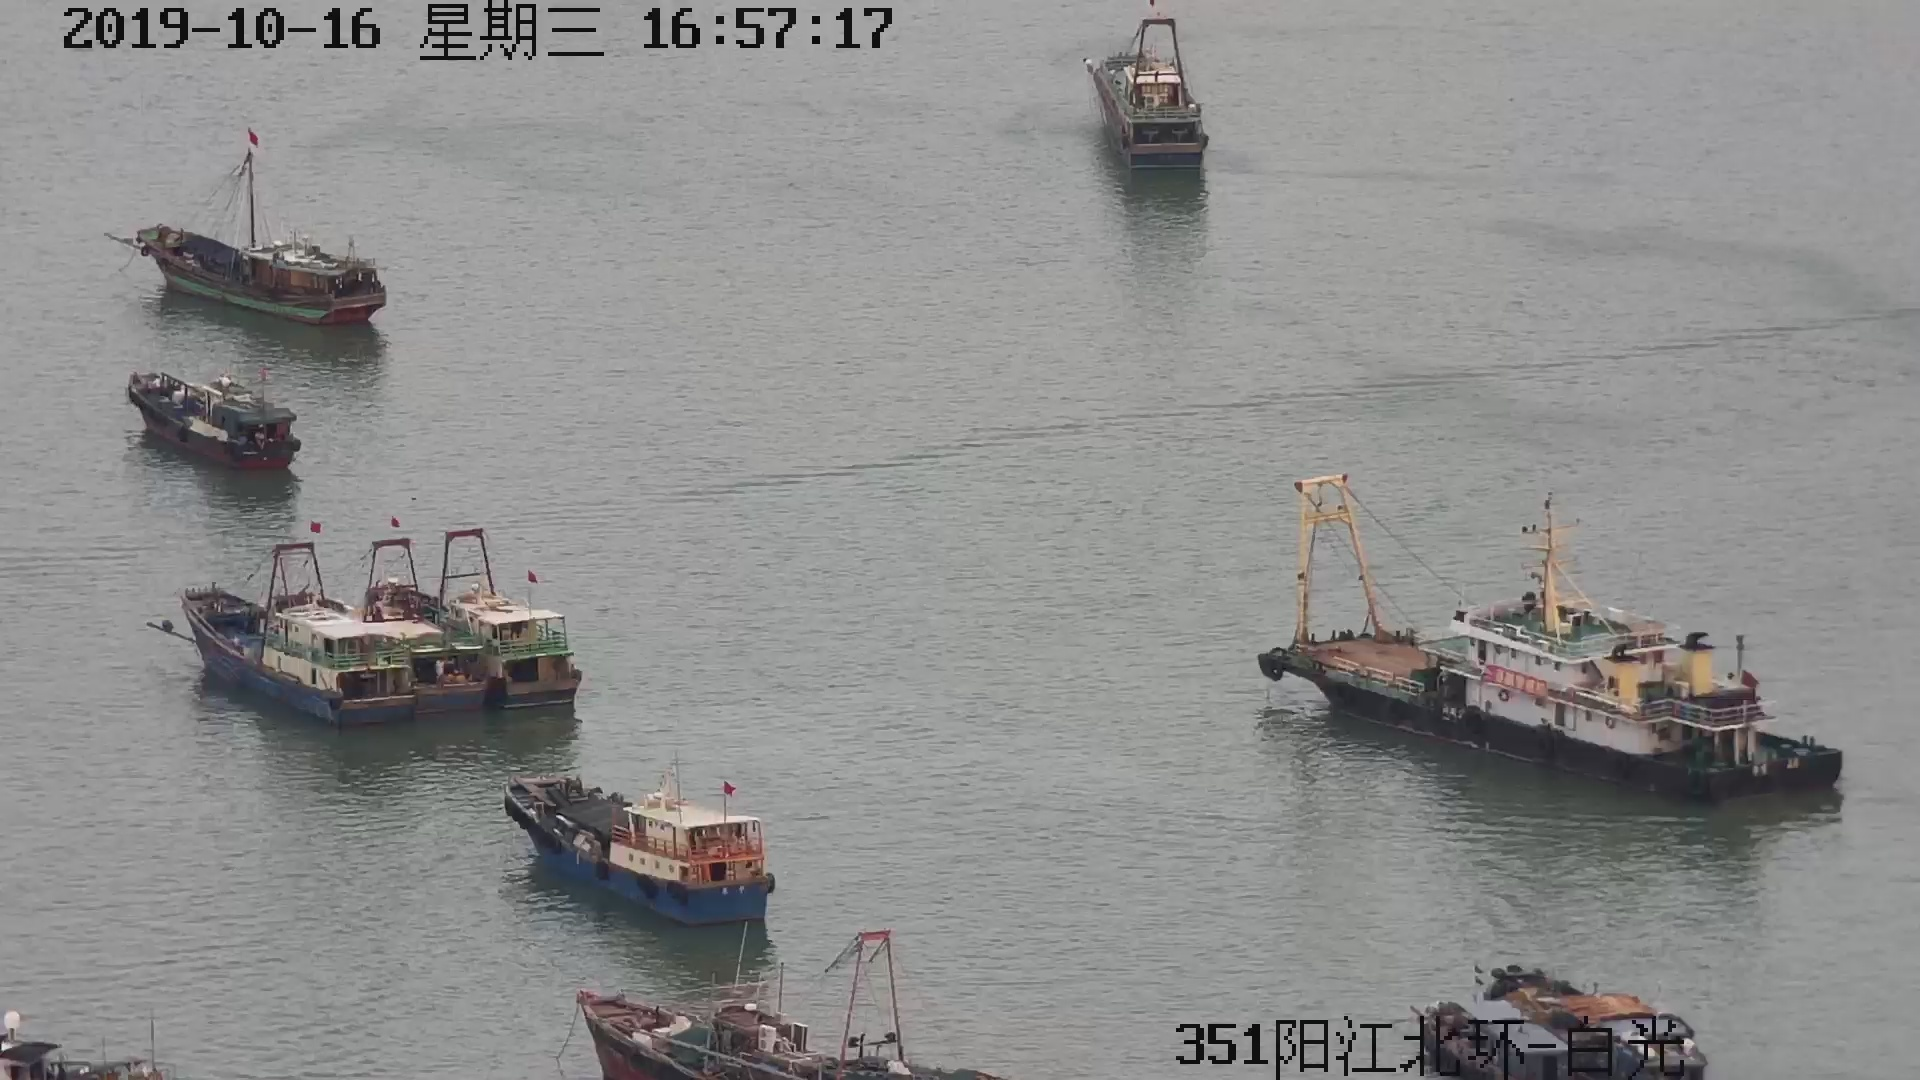ship: (1249, 454, 1840, 785), (173, 513, 564, 729), (572, 935, 977, 1080), (136, 135, 390, 328), (501, 760, 778, 924), (1087, 11, 1212, 177), (128, 371, 305, 473)
